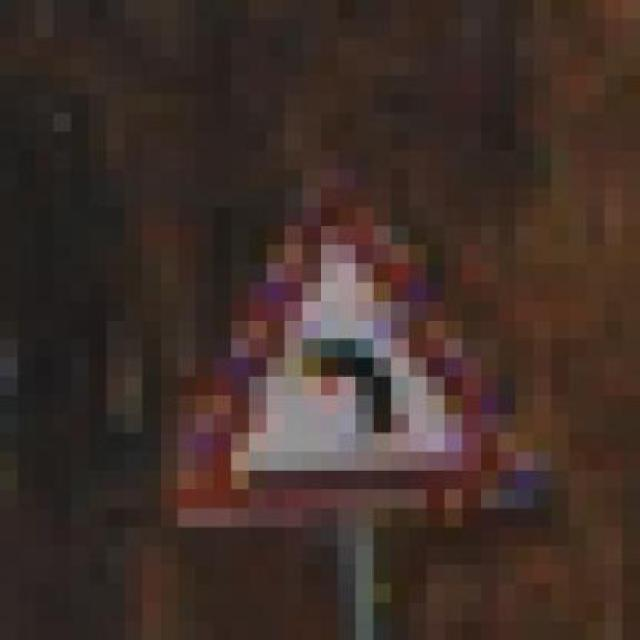Dangerous Left Curve Ahead: (131, 160, 558, 537)
